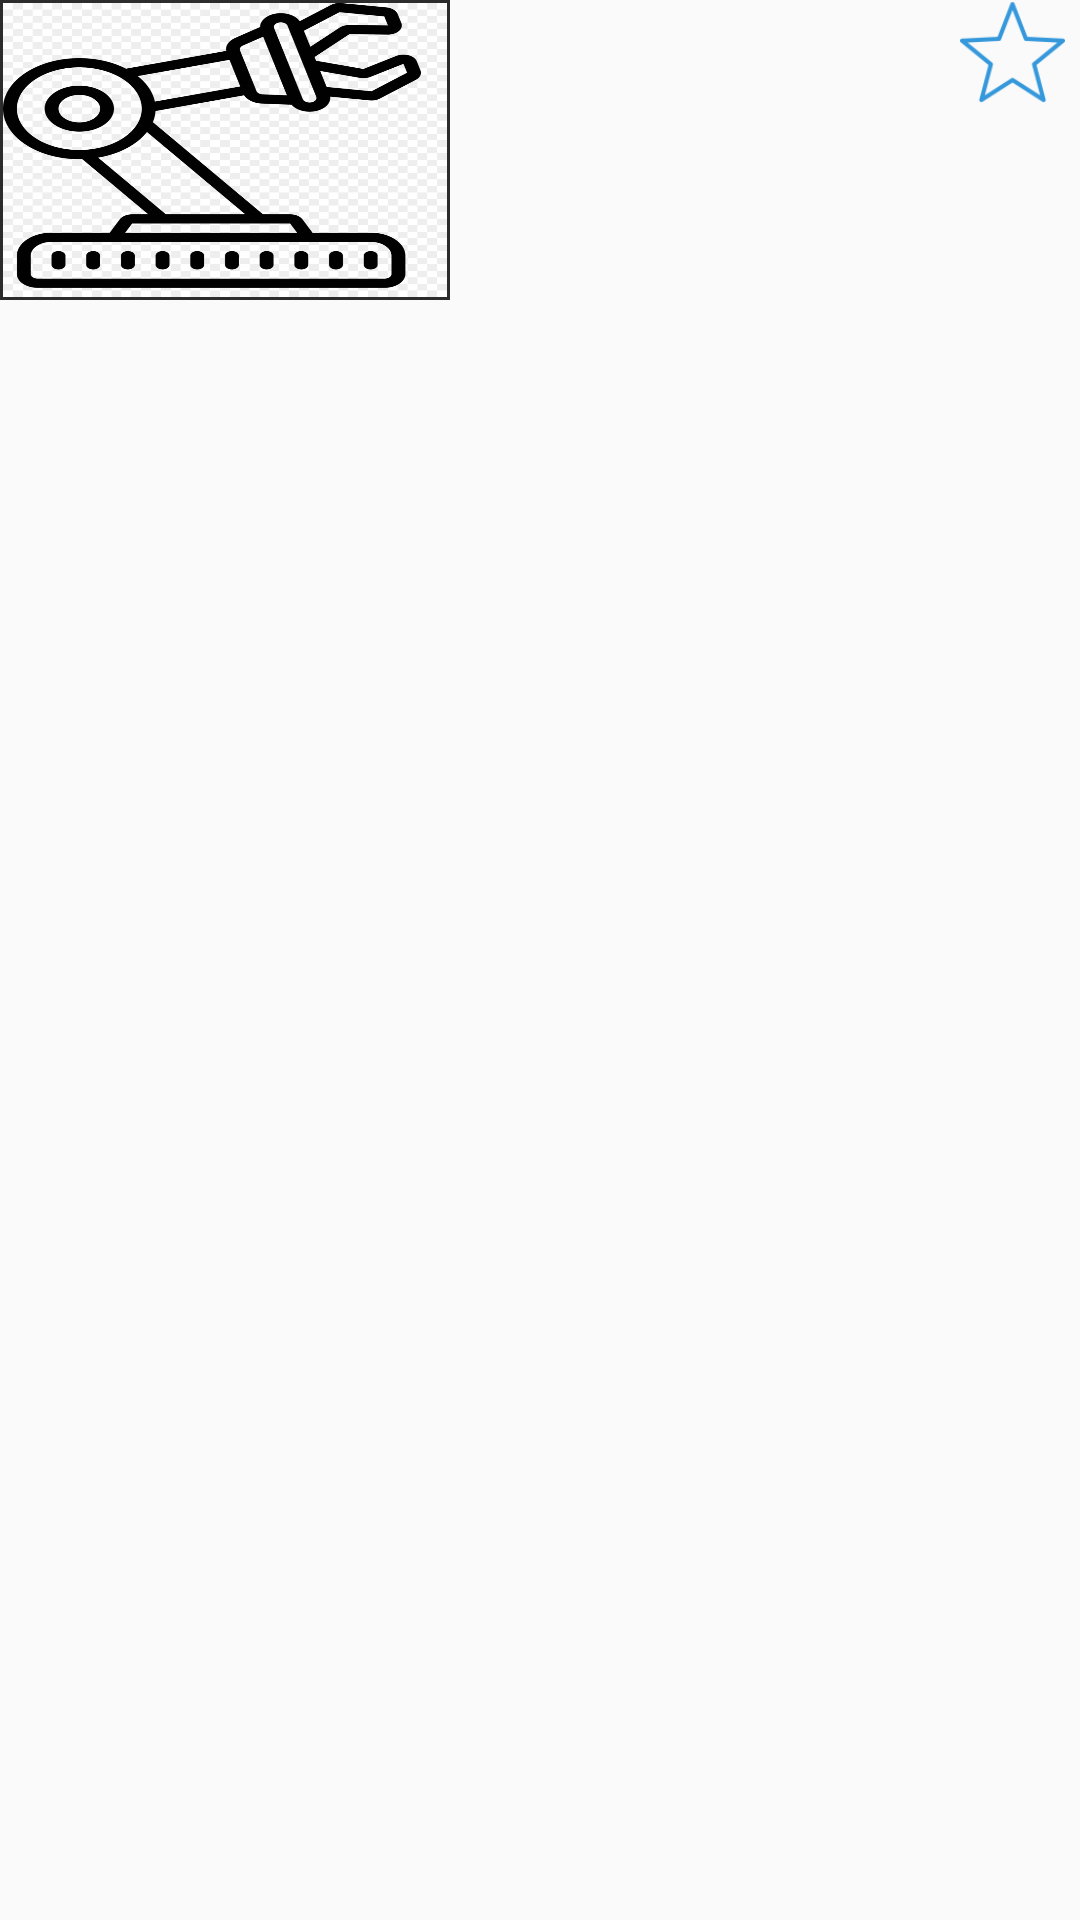

Screen size 1080*1920. Icon name, then its center in pixels as (x=x, y=y):
star off: (x=1012, y=52)
